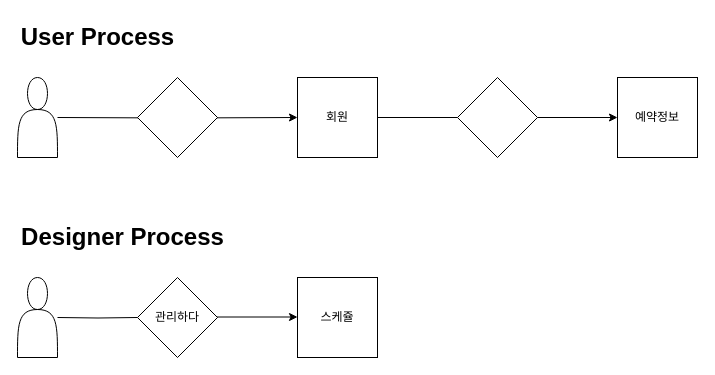
This 715x375 diagram has some shape labels left out. The centre of each missing label's shape, as x and y in pixels:
"가입하다" belongs at point 177,117.
"예약하다" belongs at point 497,117.
